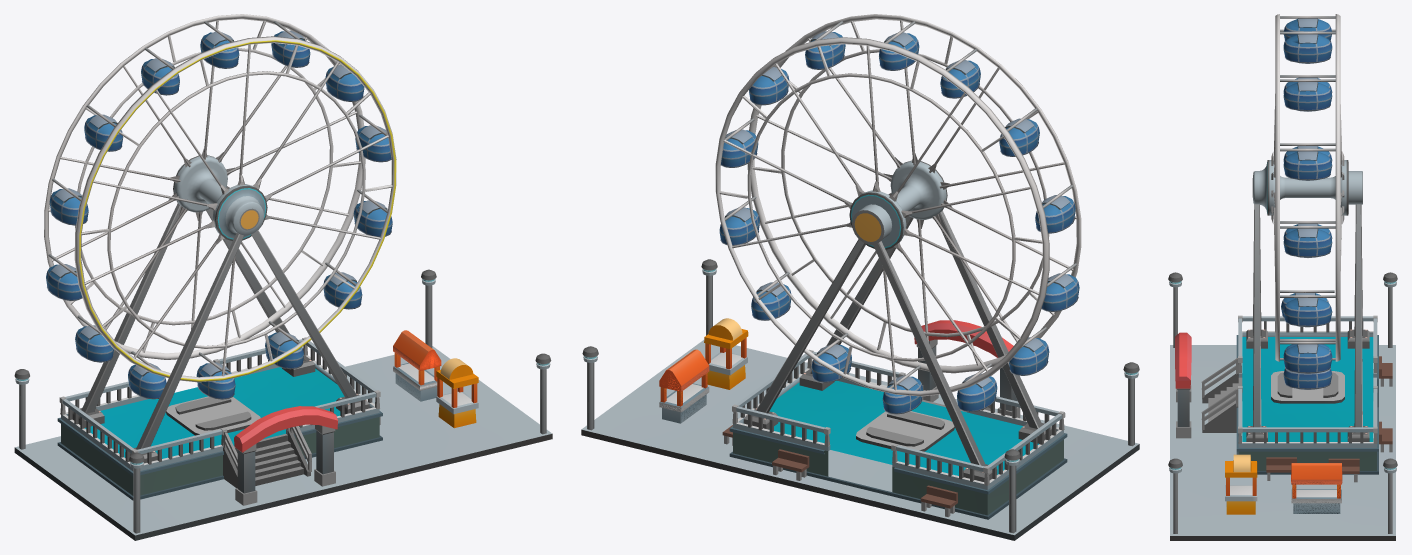
Rendered from Ferries_Wheel.fbx.
The picture shows the model from 3 angles, left to right: view 1: azimuth 30°, elevation 25°; view 2: azimuth 150°, elevation 25°; view 3: azimuth 270°, elevation 25°; orthographic projection. The views are drawn at different scales.
Visible parts, largest first — view 1: Ferries_Wheel02; view 2: Ferries_Wheel02; view 3: Ferries_Wheel02.
Part boxes in pixels (<box>): Ferries_Wheel02: <box>14,14,552,540</box>; Ferries_Wheel02: <box>581,14,1139,540</box>; Ferries_Wheel02: <box>1168,14,1397,540</box>.
Size of the model in its own units: 8.19 by 7.64 by 4.06.
